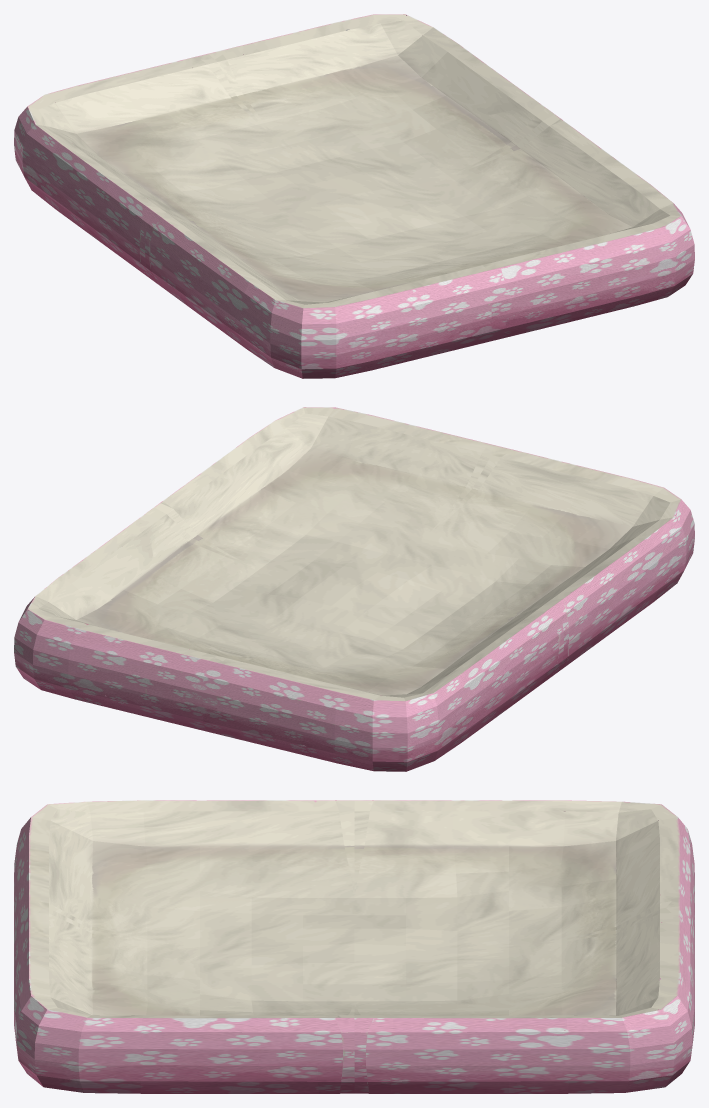
File: cat_bed.fbx
3 renders of one model, top to bottom at view 1: azimuth 30°, elevation 25°; view 2: azimuth 150°, elevation 25°; view 3: azimuth 270°, elevation 25°, orthographic. The views are drawn at different scales.
Visible parts, largest first — view 1: cat_bed; view 2: cat_bed; view 3: cat_bed.
Part boxes in pixels (x1,y1,x2,y2): cat_bed: [14, 14, 694, 378]; cat_bed: [14, 407, 694, 771]; cat_bed: [14, 800, 694, 1093].
Size of the model in its own units: 843 by 142 by 1066.
Materials: 1 (1 with a texture image).
